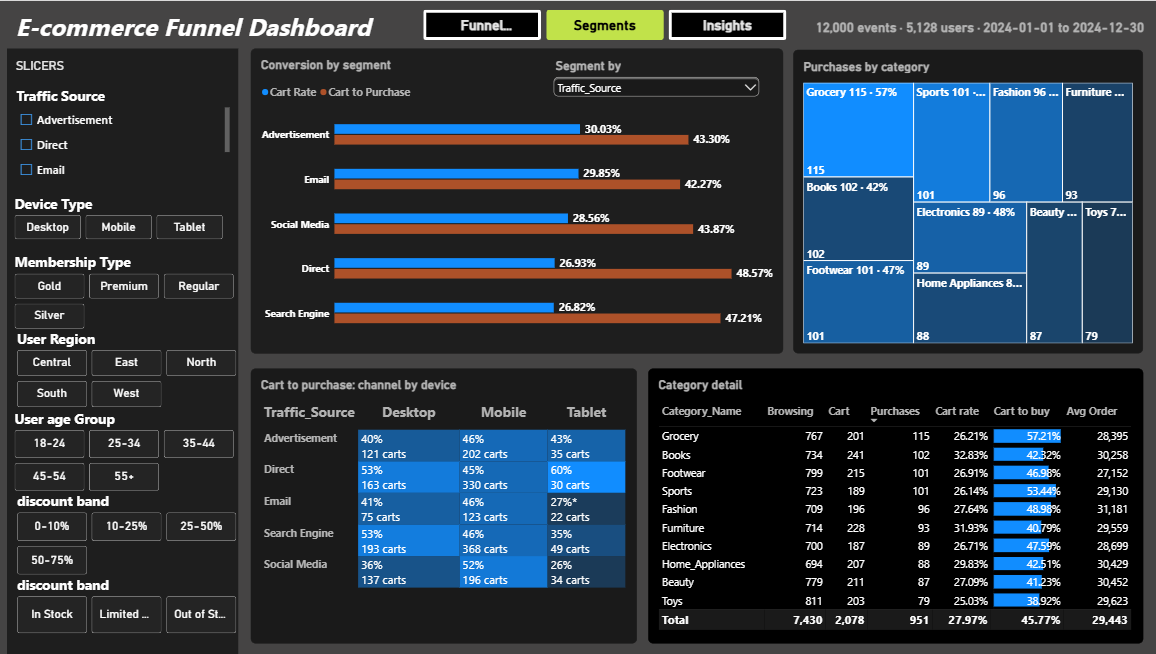

This screenshot's page, from the dashboard's own definition file:
{"tool":"powerbi","page":{"name":"Segments","canvas":[1920,1080],"ordinal":1},"visuals":[{"type":"shape","box":[16.5,78.2,380.8,1002.4],"z":0,"group":"g1"},{"type":"textbox","title":"SLICERS","box":[30.9,94.7,107,28.8],"z":1000,"group":"g1"},{"type":"slicer","title":"Traffic Source","fields":{"Values":["ecommerce dataset.Traffic_Source"]},"box":[24.7,139.9,358.1,158.5],"z":2000,"group":"g1"},{"type":"advancedSlicerVisual","title":"Membership Type","fields":{"Values":["ecommerce dataset.Membership_Type"]},"box":[26.8,413.7,370.5,125.6],"z":3000,"group":"g1"},{"type":"advancedSlicerVisual","title":"User Region","fields":{"Values":["ecommerce dataset.User_Region"]},"box":[30.9,539.3,370.5,129.7],"z":4000,"group":"g1"},{"type":"advancedSlicerVisual","title":"User age Group","fields":{"Values":["ecommerce dataset.User_Age_Group"]},"box":[26.8,671,370.5,135.8],"z":5000,"group":"g1"},{"type":"advancedSlicerVisual","title":"discount band","fields":{"Values":["ecommerce dataset.Discount_Band"]},"box":[30.9,806.8,370.5,137.9],"z":6000,"group":"g1"},{"type":"group","id":"g1","title":"Group 2","box":[16.5,78.2,384.9,1002.4],"z":7000},{"type":"advancedSlicerVisual","title":"discount band","fields":{"Values":["ecommerce dataset.Stock_Status"]},"box":[30.9,944.8,370.5,96.7],"z":7000,"group":"g1"},{"type":"textbox","title":"E-commerce Funnel Dashboard","box":[30.9,14.4,619.6,63.8],"z":13000},{"type":"textbox","title":"12,000 events · 5,128 users · 2024-01-01 to 2024-12-30","box":[1348.2,30.9,557.8,32.9],"z":13001},{"type":"clusteredBarChart","title":"Conversion by segment","fields":{"Category":["ecommerce dataset.Traffic_Source"],"Y":["Kpi Measure.Cart Rate","Kpi Measure.Cart to Purchase"]},"box":[417.8,78.2,876.8,502.2],"z":13002,"group":"g2"},{"type":"slicer","fields":{"Values":["Segment by.Segment by"]},"box":[912.5,94.7,348.1,67.9],"z":13003,"group":"g2"},{"type":"group","id":"g2","title":"Group 1","box":[417.8,78.2,876.8,502.2],"z":13004},{"type":"treemap","title":"Purchases by category","fields":{"Group":["ecommerce dataset.Category_Display"],"Values":["Kpi Measure.Purchases"]},"box":[1311.2,80.3,576.3,500.2],"z":13005},{"type":"pivotTable","title":"Cart to purchase: channel by device","fields":{"Columns":["ecommerce dataset.Device_Type"],"Rows":["ecommerce dataset.Traffic_Source"],"Values":["Kpi Measure.Channel Device Matrix Value"]},"box":[417.8,605.1,636,452.8],"z":13006},{"type":"tableEx","title":"Category detail","fields":{"Values":["ecommerce dataset.Category_Name","Kpi Measure.Browsing Events","Kpi Measure.Cart Adds","Kpi Measure.Purchases","Kpi Measure.Cart Rate","Kpi Measure.Cart to Purchase","Kpi Measure.Avg Order Value"]},"box":[1072.4,605.1,815.1,452.8],"z":13007},{"type":"pageNavigator","box":[701.9,14.4,600,50],"z":13008},{"type":"advancedSlicerVisual","title":"Device Type","fields":{"Values":["ecommerce dataset.Device_Type"]},"box":[26.8,317,352,76.2],"z":14000,"group":"g1"}]}

Visuals, with their boxes in screenshot pixels (x1, y1, x2, y2), scaled from the page's 1920x1080 canvas onto the 1156x654 screenshot:
shape: BBox(10, 47, 239, 653)
"SLICERS" textbox: BBox(19, 57, 83, 75)
"Traffic Source" slicer: BBox(15, 85, 230, 181)
"Membership Type" advancedSlicerVisual: BBox(16, 251, 239, 327)
"User Region" advancedSlicerVisual: BBox(19, 327, 242, 405)
"User age Group" advancedSlicerVisual: BBox(16, 406, 239, 489)
"discount band" advancedSlicerVisual: BBox(19, 489, 242, 572)
"Group 2" group: BBox(10, 47, 242, 653)
"discount band" advancedSlicerVisual: BBox(19, 572, 242, 631)
"E-commerce Funnel Dashboard" textbox: BBox(19, 9, 392, 47)
"12,000 events · 5,128 users · 2024-01-01 to 2024-12-30" textbox: BBox(812, 19, 1148, 39)
"Conversion by segment" clusteredBarChart: BBox(252, 47, 779, 351)
slicer - Segment by.Segment by: BBox(549, 57, 759, 98)
"Group 1" group: BBox(252, 47, 779, 351)
"Purchases by category" treemap: BBox(789, 49, 1136, 352)
"Cart to purchase: channel by device" pivotTable: BBox(252, 366, 634, 641)
"Category detail" tableEx: BBox(646, 366, 1136, 641)
pageNavigator: BBox(423, 9, 784, 39)
"Device Type" advancedSlicerVisual: BBox(16, 192, 228, 238)
